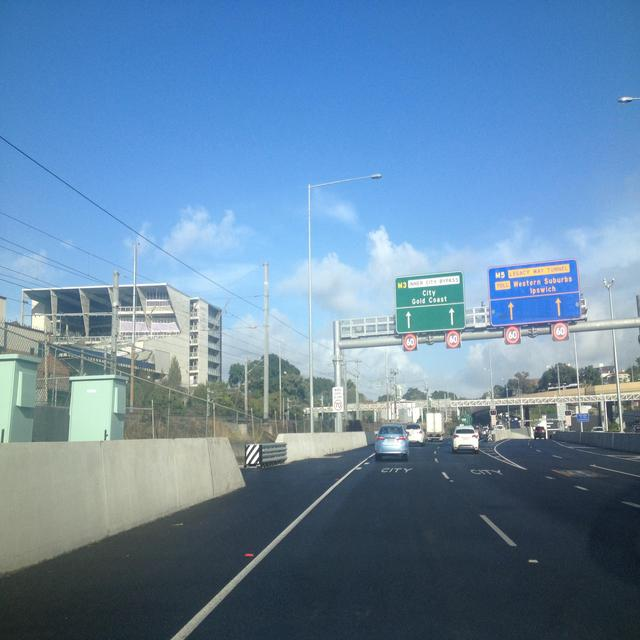Barrier: (0, 431, 377, 577), (549, 410, 639, 453), (490, 426, 534, 441)
Car: (375, 423, 478, 461), (533, 426, 604, 439)
Vegetation: (507, 362, 617, 431), (578, 357, 639, 409), (402, 388, 463, 434), (135, 368, 155, 381)
